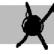not correct: (15, 0, 54, 51)
